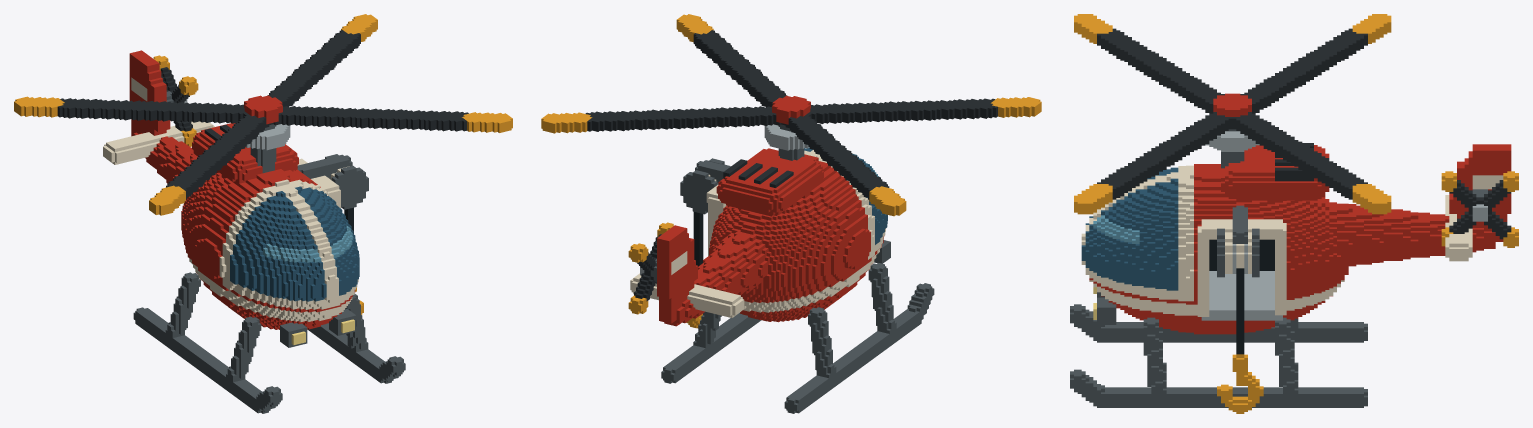
File: rescue_helicopter.glb
3 renders of one model, left to right at view 1: azimuth 30°, elevation 25°; view 2: azimuth 150°, elevation 25°; view 3: azimuth 270°, elevation 25°, orthographic. The views are drawn at different scales.
Visible parts, largest first — view 1: rescue_helicopter; view 2: rescue_helicopter; view 3: rescue_helicopter.
Part boxes in pixels (x1,y1,x2,y2): rescue_helicopter: [14, 14, 512, 413]; rescue_helicopter: [541, 14, 1041, 413]; rescue_helicopter: [1070, 14, 1518, 413].
Size of the model in its own units: 5.8 by 3.85 by 5.8.
